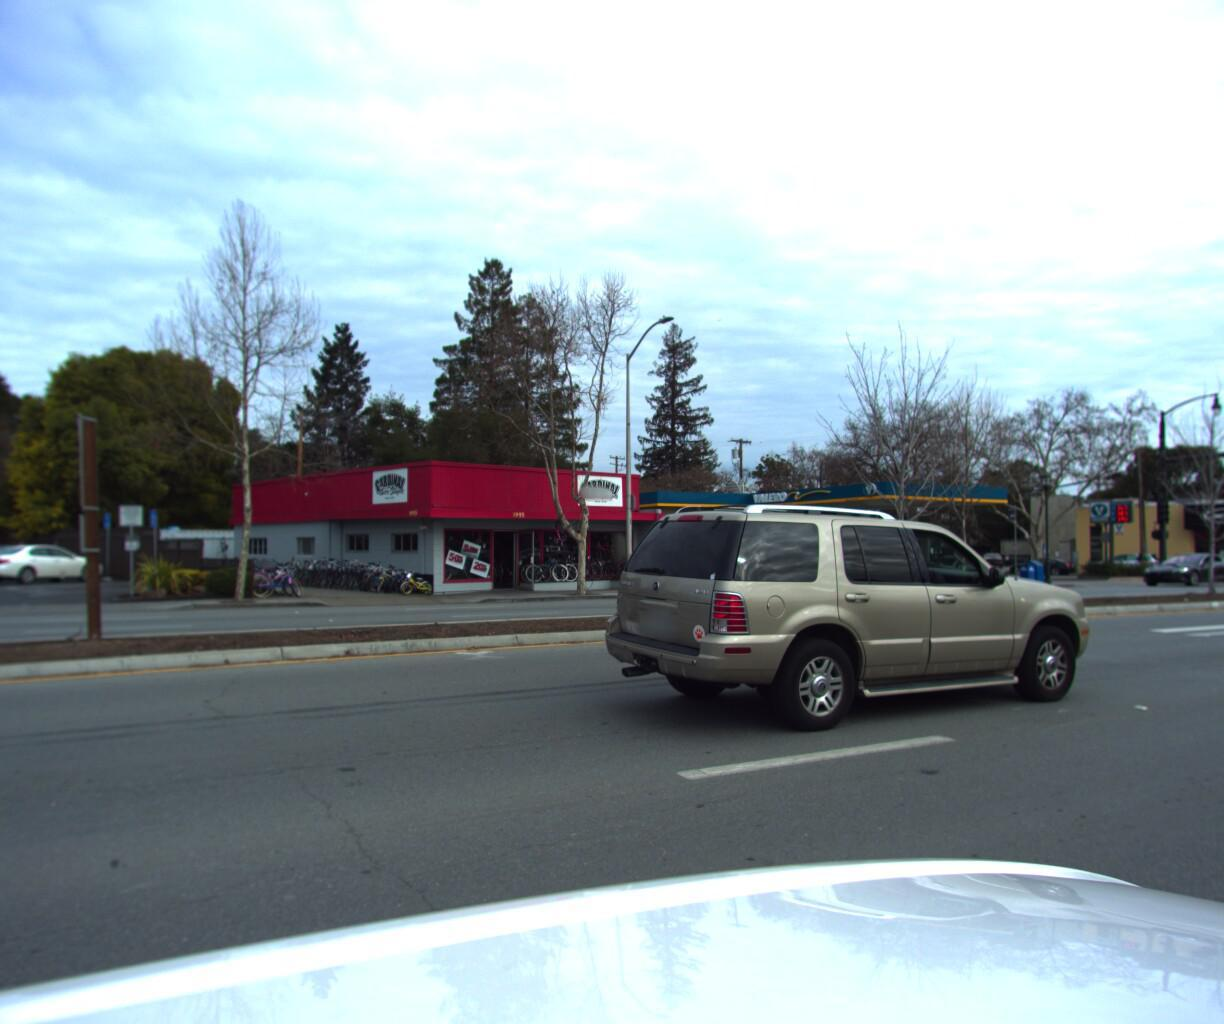bicycle: (255, 560, 310, 601), (248, 560, 302, 600), (241, 560, 295, 599), (376, 560, 425, 597), (369, 560, 417, 597), (363, 559, 410, 596), (349, 559, 395, 595), (355, 559, 402, 595), (342, 559, 388, 594), (328, 558, 373, 593), (334, 559, 380, 593), (322, 558, 367, 592), (314, 558, 359, 592), (302, 558, 346, 591), (307, 558, 351, 591), (297, 558, 341, 590), (399, 564, 433, 597), (1118, 545, 1155, 575), (271, 557, 300, 589)
car: (585, 508, 1096, 763), (1133, 545, 1224, 586), (901, 550, 1001, 580), (1008, 553, 1073, 573)
